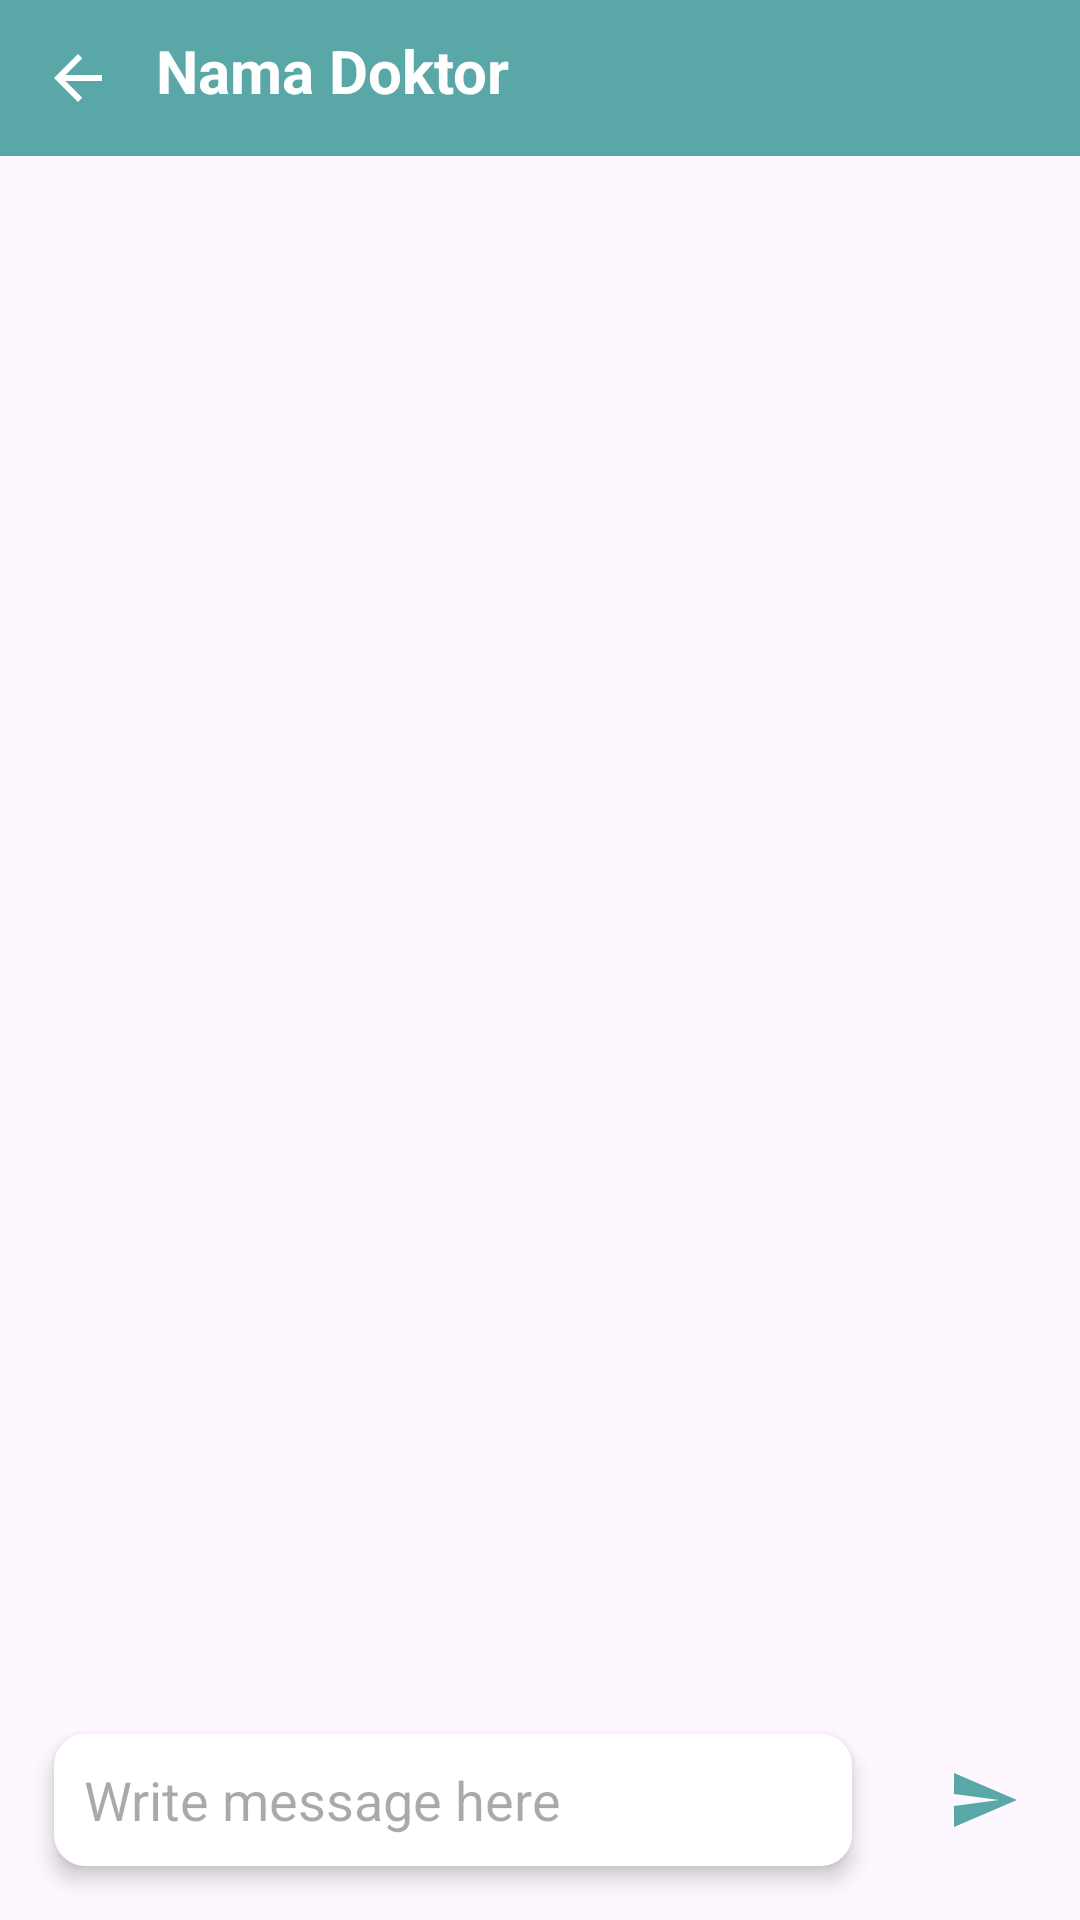

Where to tap for icons on this 1080*1920 app screen, as (x=x, y=y):
back: (x=78, y=78)
send: (x=985, y=1800)
